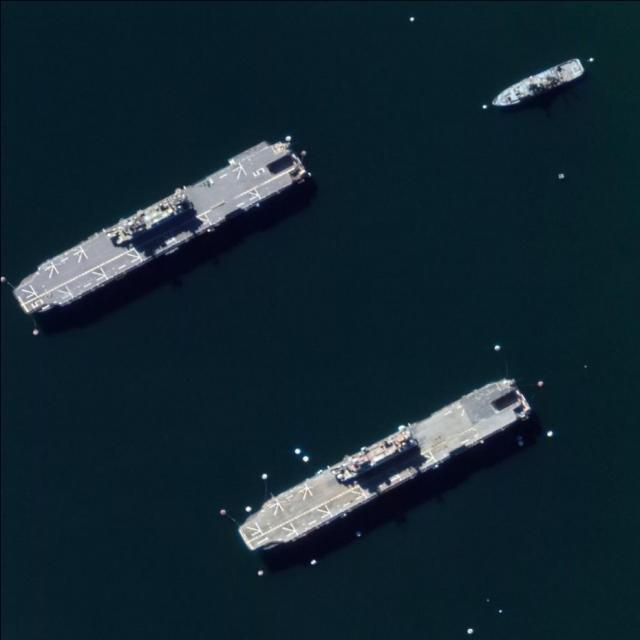Landing: (8, 131, 310, 326), (229, 374, 533, 559)
Other Warship: (486, 56, 586, 113)
